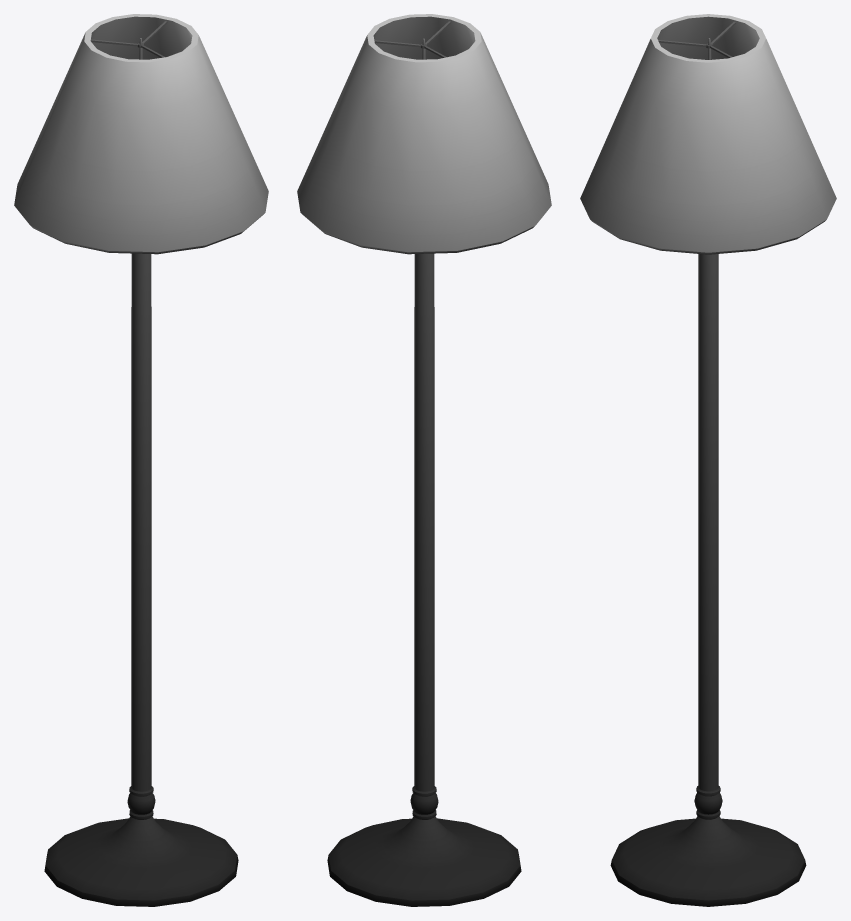
File: Lamp_03.fbx
3 renders of one model, left to right at view 1: azimuth 30°, elevation 25°; view 2: azimuth 150°, elevation 25°; view 3: azimuth 270°, elevation 25°, orthographic.
Parts seen in each view (by area): view 1: Lamp_3; view 2: Lamp_3; view 3: Lamp_3.
Boxes of the visible parts, x1,y1,x2,y2 form: Lamp_3: (14,14,268,906); Lamp_3: (297,14,551,906); Lamp_3: (580,14,836,906).
Size of the model in its own units: 0.4533 by 1.61 by 0.4533.
